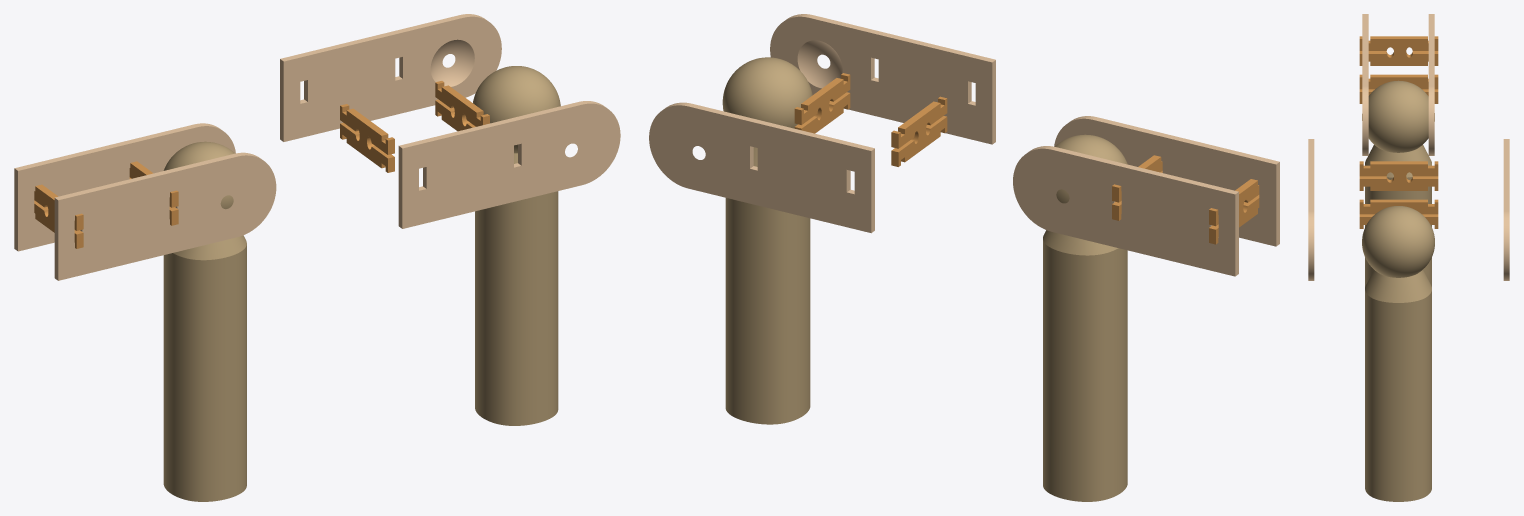
3 views of the same model, side by side, from view 1: azimuth 30°, elevation 25°; view 2: azimuth 150°, elevation 25°; view 3: azimuth 270°, elevation 25° (orthographic). The views are drawn at different scales.
Size of the model in its own units: 6.87 by 4.24 by 2.75.
